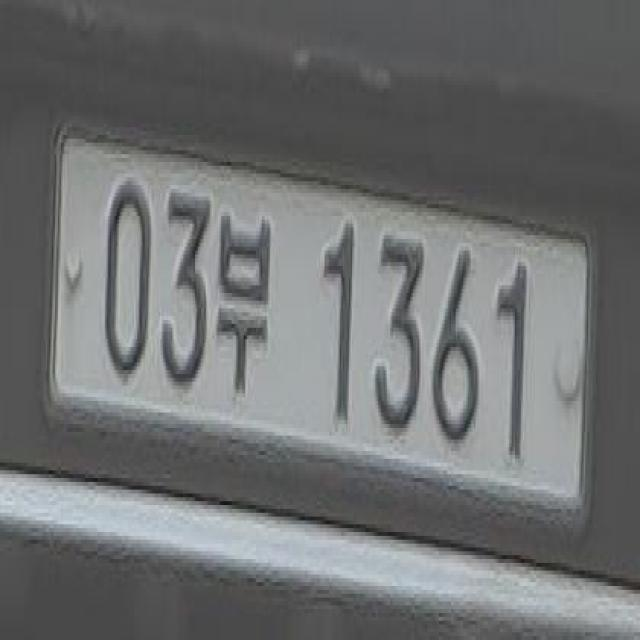illegal_plate: (49, 135, 602, 547)
